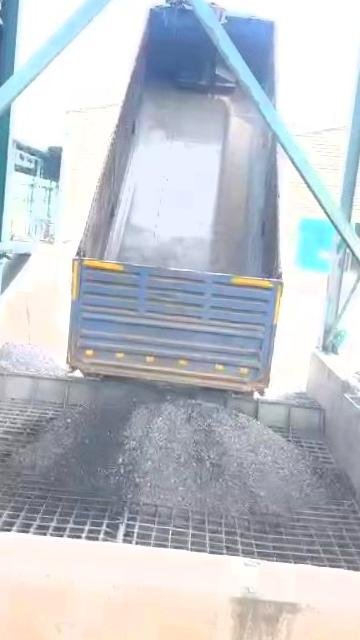gravel: (10, 399, 349, 515), (0, 342, 68, 375)
